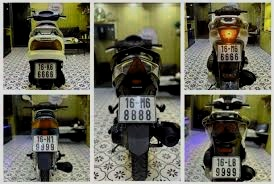Bien-so: (118, 101, 157, 128), (214, 163, 243, 184), (220, 48, 246, 67), (29, 141, 55, 159), (30, 68, 52, 84)
